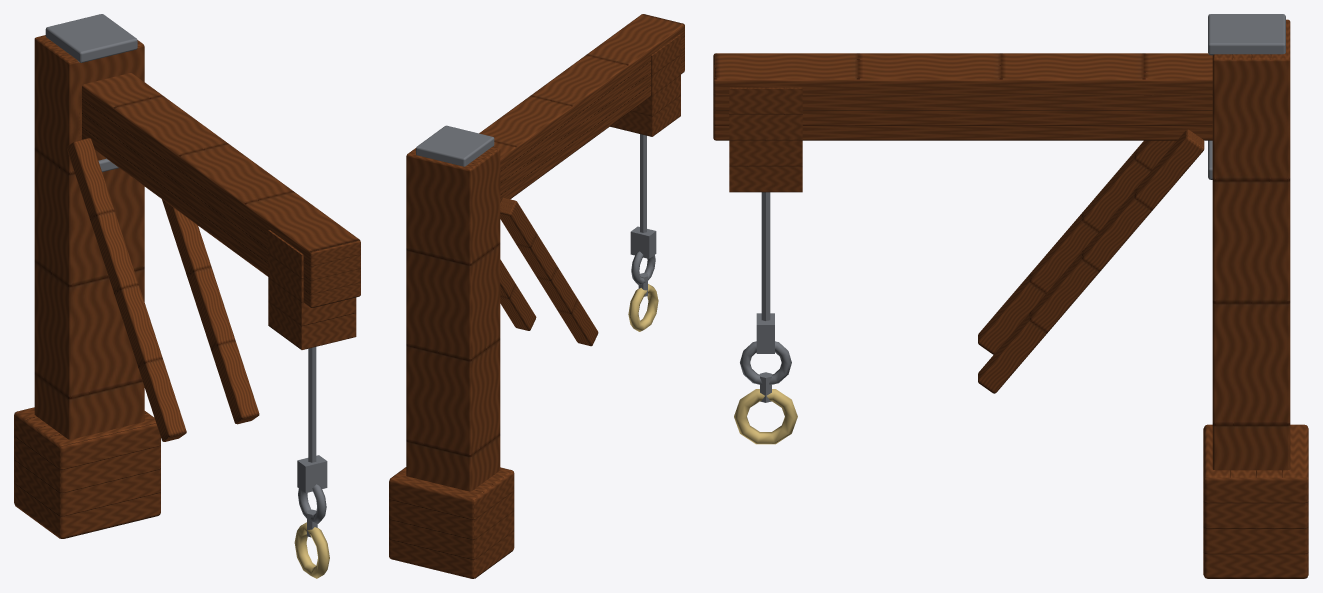
File: mill-hoist-beam-and-hook.glb
3 renders of one model, left to right at view 1: azimuth 30°, elevation 25°; view 2: azimuth 150°, elevation 25°; view 3: azimuth 270°, elevation 25°, orthographic. The views are drawn at different scales.
Visible parts, largest first — view 1: mill-hoist-beam-and-hook, hoist-hook/iron, hoist-hook/brass; view 2: mill-hoist-beam-and-hook, hoist-hook/iron, hoist-hook/brass; view 3: mill-hoist-beam-and-hook, hoist-hook/iron, hoist-hook/brass.
Boxes of the visible parts, box(x1,y1,x2,y2) form: mill-hoist-beam-and-hook: box(14, 14, 360, 538); hoist-hook/iron: box(297, 347, 327, 537); hoist-hook/brass: box(294, 522, 329, 578); mill-hoist-beam-and-hook: box(389, 14, 684, 578); hoist-hook/iron: box(630, 134, 656, 296); hoist-hook/brass: box(628, 284, 658, 331); mill-hoist-beam-and-hook: box(713, 14, 1308, 578); hoist-hook/iron: box(740, 192, 791, 402); hoist-hook/brass: box(734, 389, 797, 444).
Bounding box in the file's own units: 0.5599 × 2.53 × 2.6.
3 materials, 1 textured.
